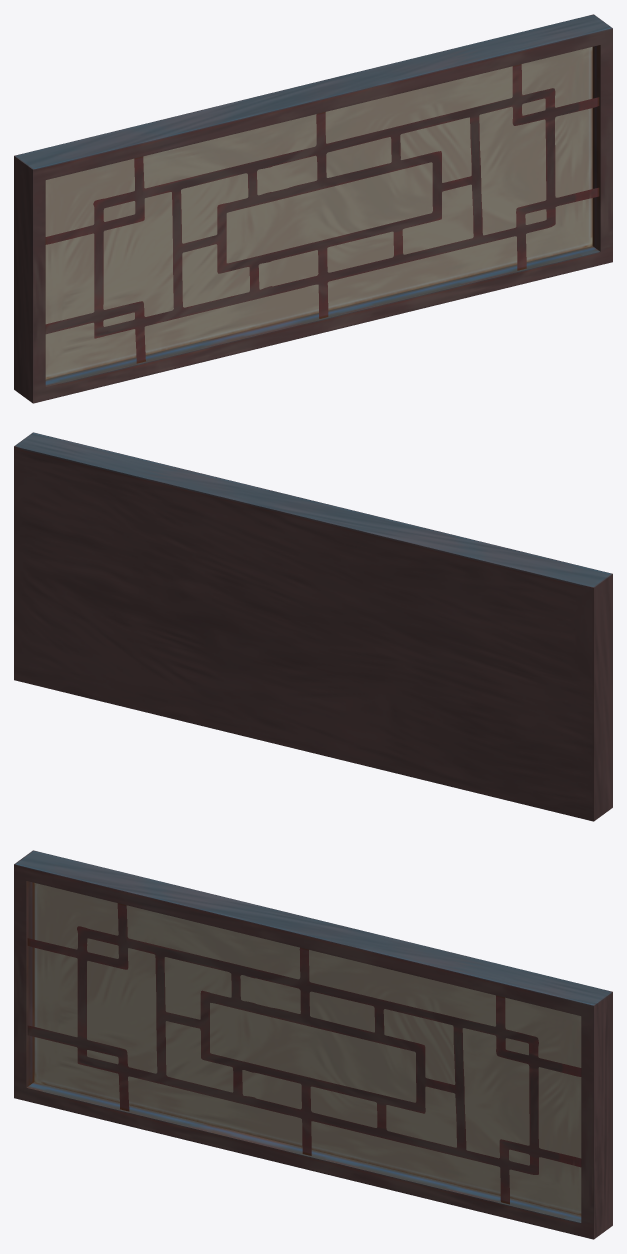
The model's file is ImperialWindow_B.fbx.
The picture shows the model from 3 angles, top to bottom: view 1: azimuth 30°, elevation 25°; view 2: azimuth 150°, elevation 25°; view 3: azimuth 330°, elevation 25°; orthographic projection.
Visible parts, largest first — view 1: ImperialWindow_B; view 2: ImperialWindow_B; view 3: ImperialWindow_B.
Boxes of the visible parts, left/top/right/bottom form: ImperialWindow_B: left=14, top=14, right=612, bottom=403; ImperialWindow_B: left=14, top=432, right=612, bottom=821; ImperialWindow_B: left=14, top=850, right=612, bottom=1239.
Size of the model in its own units: 703 by 271 by 40.22.
